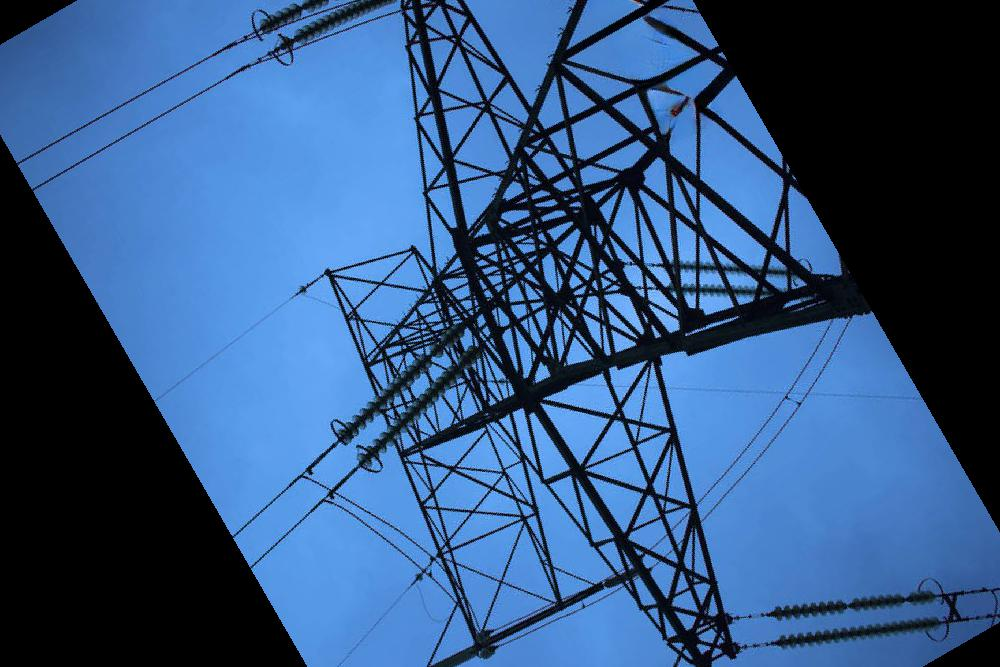insulator: (334, 321, 471, 443), (353, 343, 483, 470), (773, 613, 941, 652), (770, 586, 938, 623), (291, 1, 405, 49), (675, 257, 788, 284), (257, 1, 329, 37), (676, 279, 761, 301)
insulator_stringdrop: (417, 341, 445, 371), (834, 595, 863, 617), (892, 590, 921, 611), (288, 1, 316, 22)
